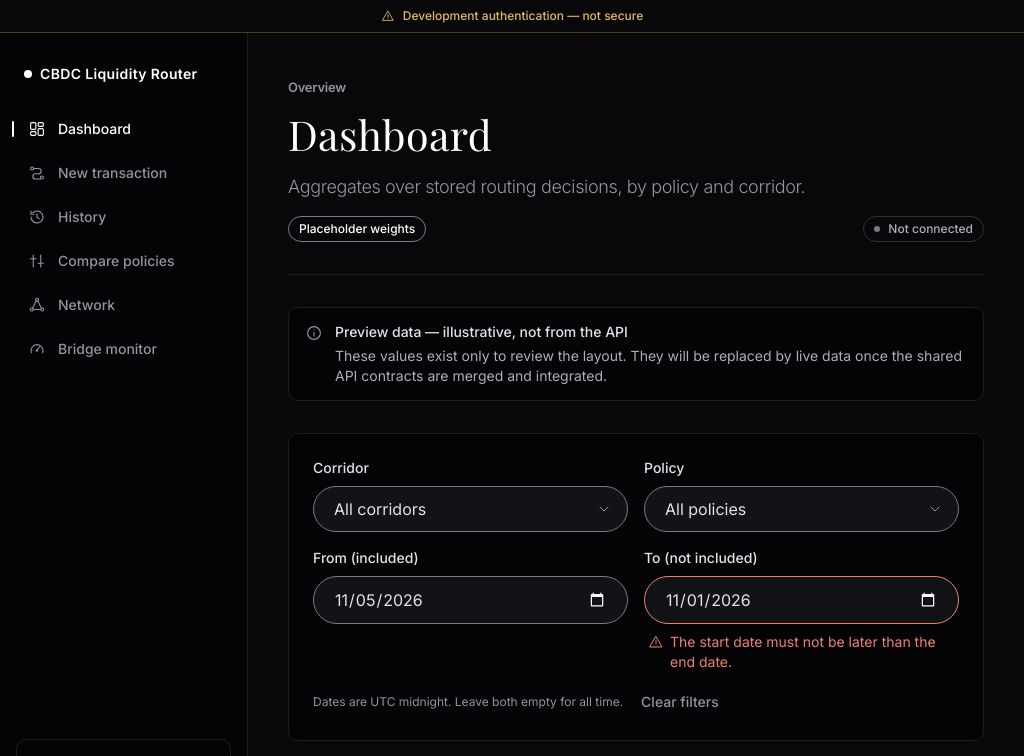
Test: Dashboard invalid filters › recovers when the range is fixed
In the date field labelled "From (included)": [470, 600] box [313, 576, 628, 624], type "2026-11-01"
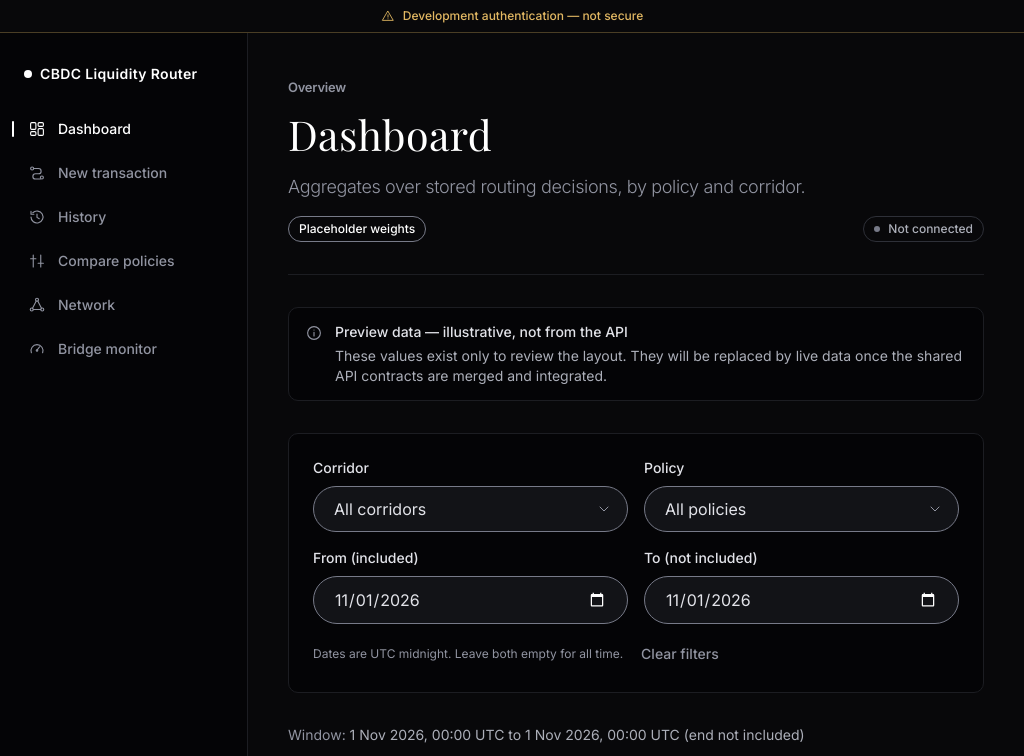
In the date field labelled "To (not included)": [802, 600] box [644, 576, 959, 624], type "2026-11-05"
(page scrolled)
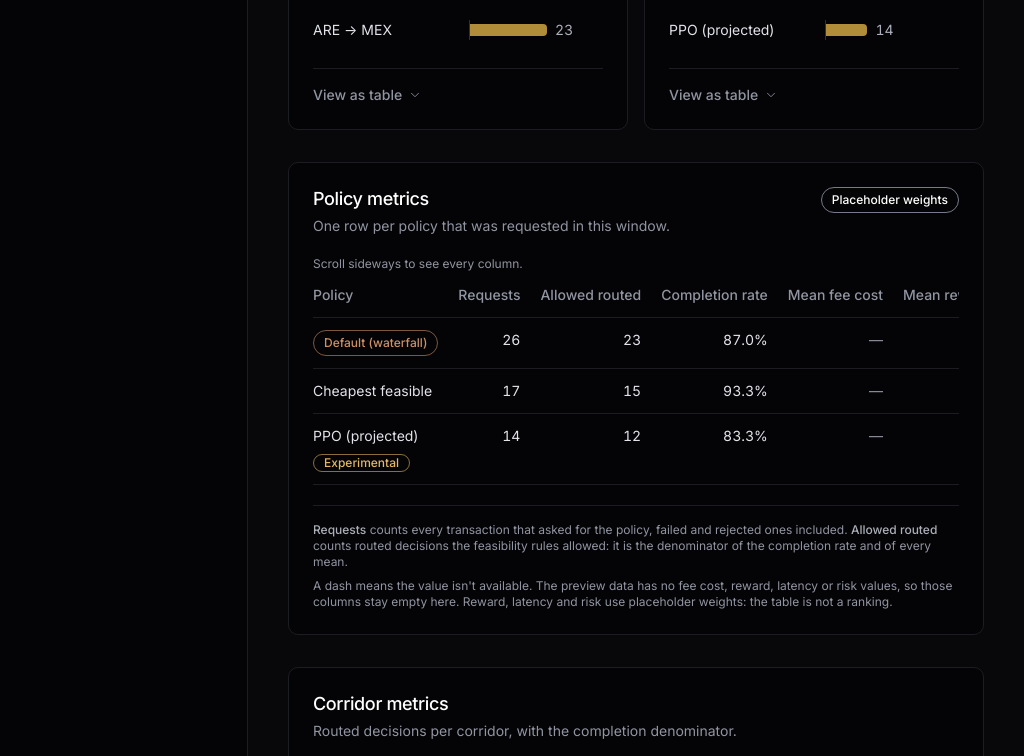
Expected: the text "The start date must not be later than the end date." is not shown
Now the table named "Metrics by policy" is shown, box [313, 284, 959, 485]
